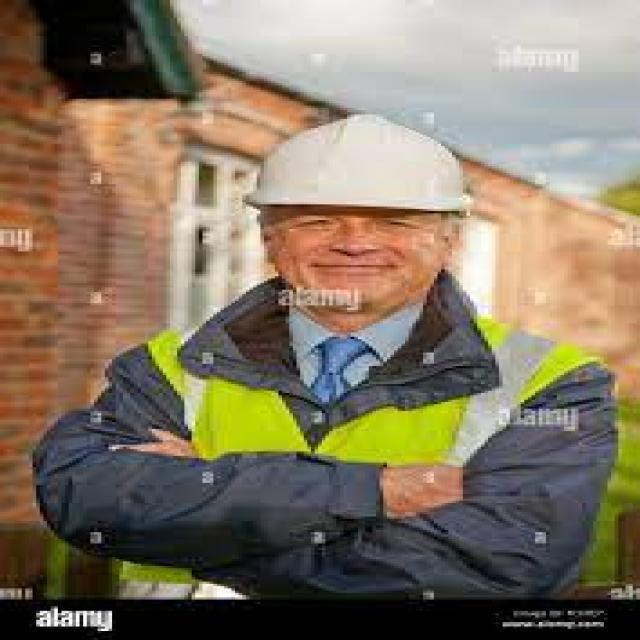reflective_jacket: (115, 305, 632, 592)
safety_helmet: (228, 110, 492, 224)
